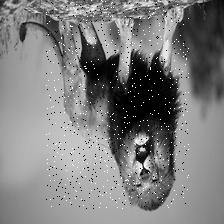Lion: (46, 0, 189, 209)
